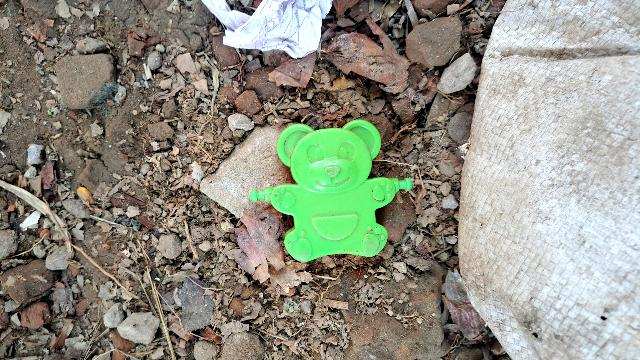hardplastic: (271, 113, 415, 270)
